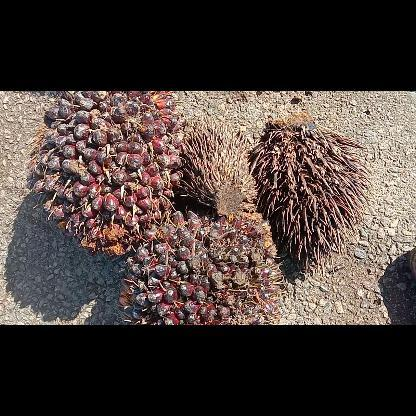Janjang kosong: (249, 112, 371, 276), (178, 113, 257, 213)
TBS mentah: (26, 91, 184, 257), (119, 212, 285, 324)
